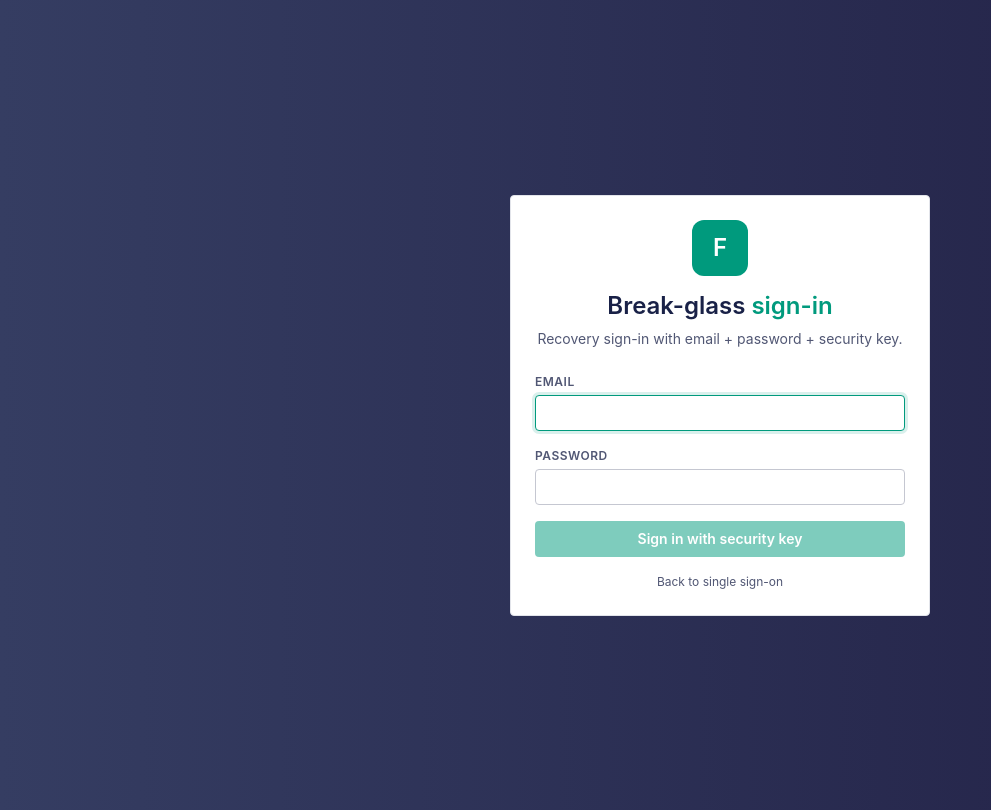
BreakGlassLogin form › submit is disabled until both email + password are entered
Expected: the button "Sign in with security key" is disabled, [535,520,905,556]
Type "ops@example.com" into the field labelled "Email" at (720, 412), box [535,394,905,430]
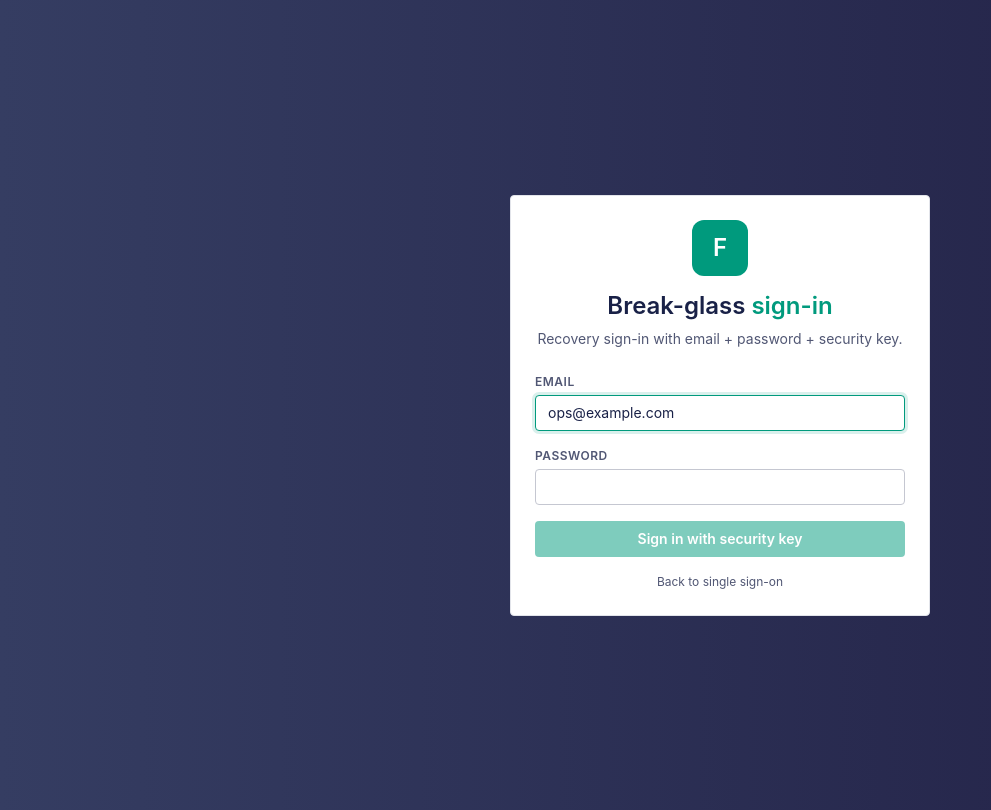
Expected: the button "Sign in with security key" is disabled, [535,520,905,556]
Type "pw" into the password field labelled "Password" at (720, 486), box [535,468,905,504]
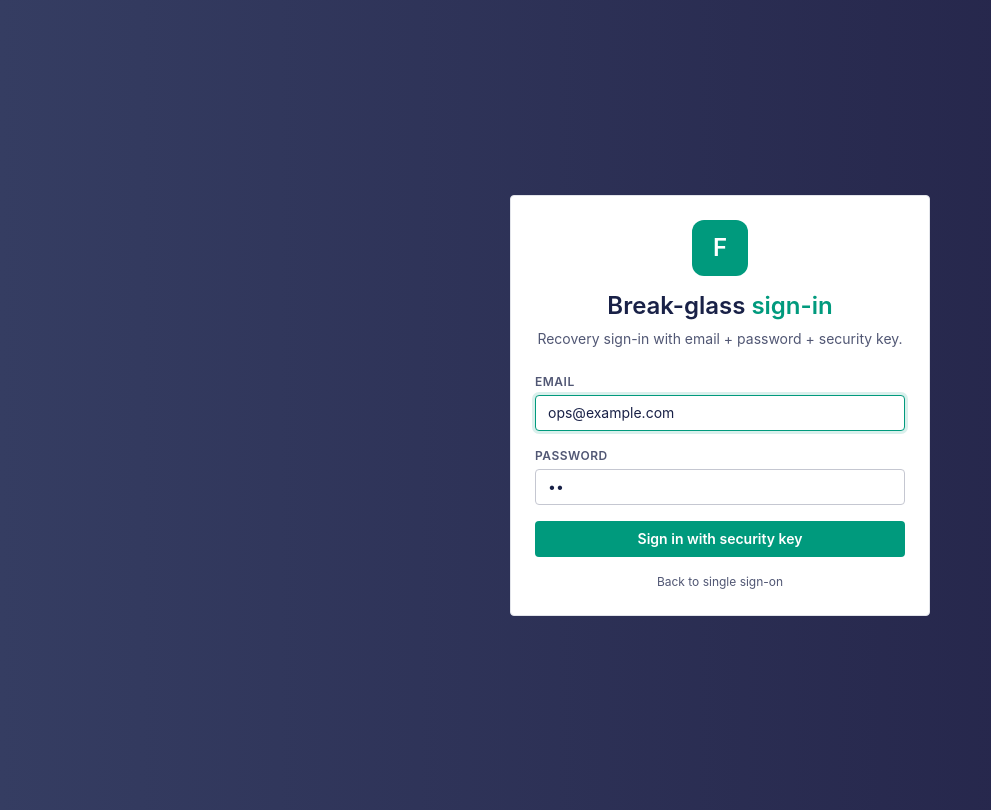
Expected: the button "Sign in with security key" is enabled, [535,520,905,556]
